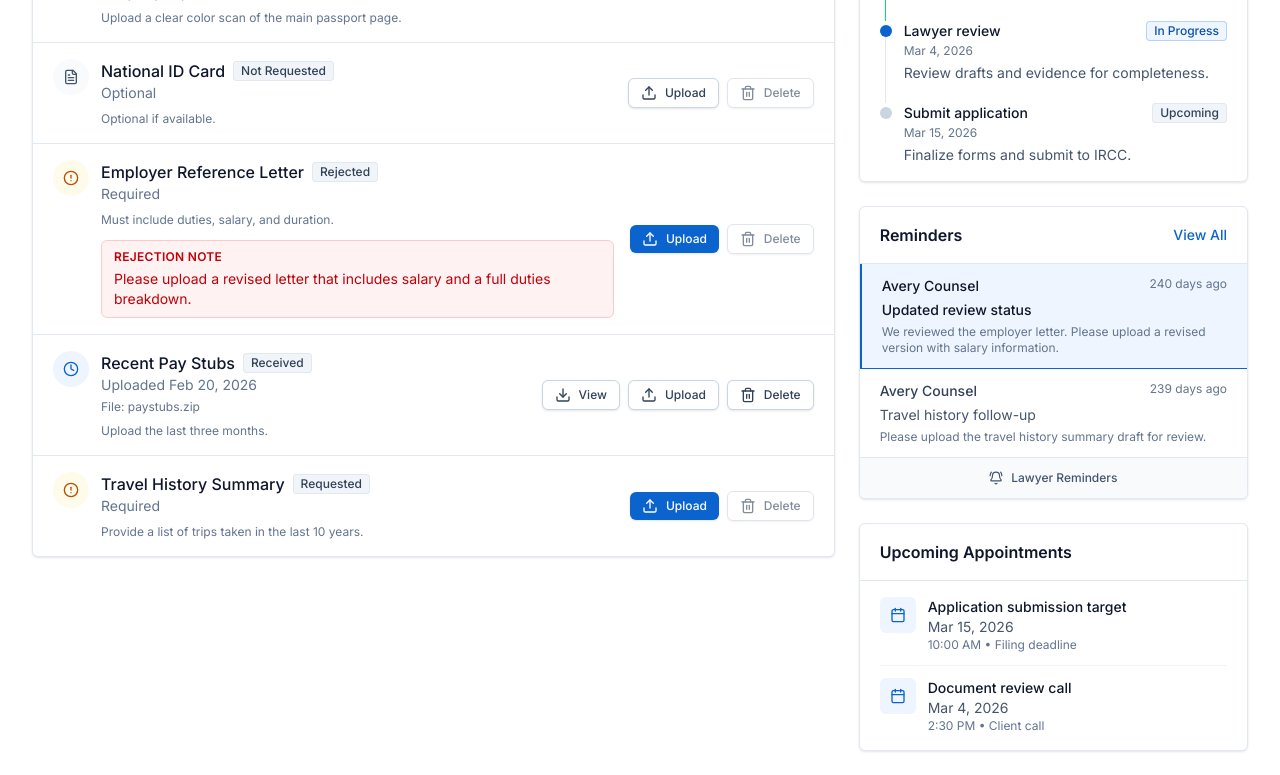
it: ClientDashboard documents › CT-CLIENT-14: requires a file before uploading
(page scrolled)
Click the 5th button "Upload": (674, 506) left=630, top=492, right=719, bottom=520
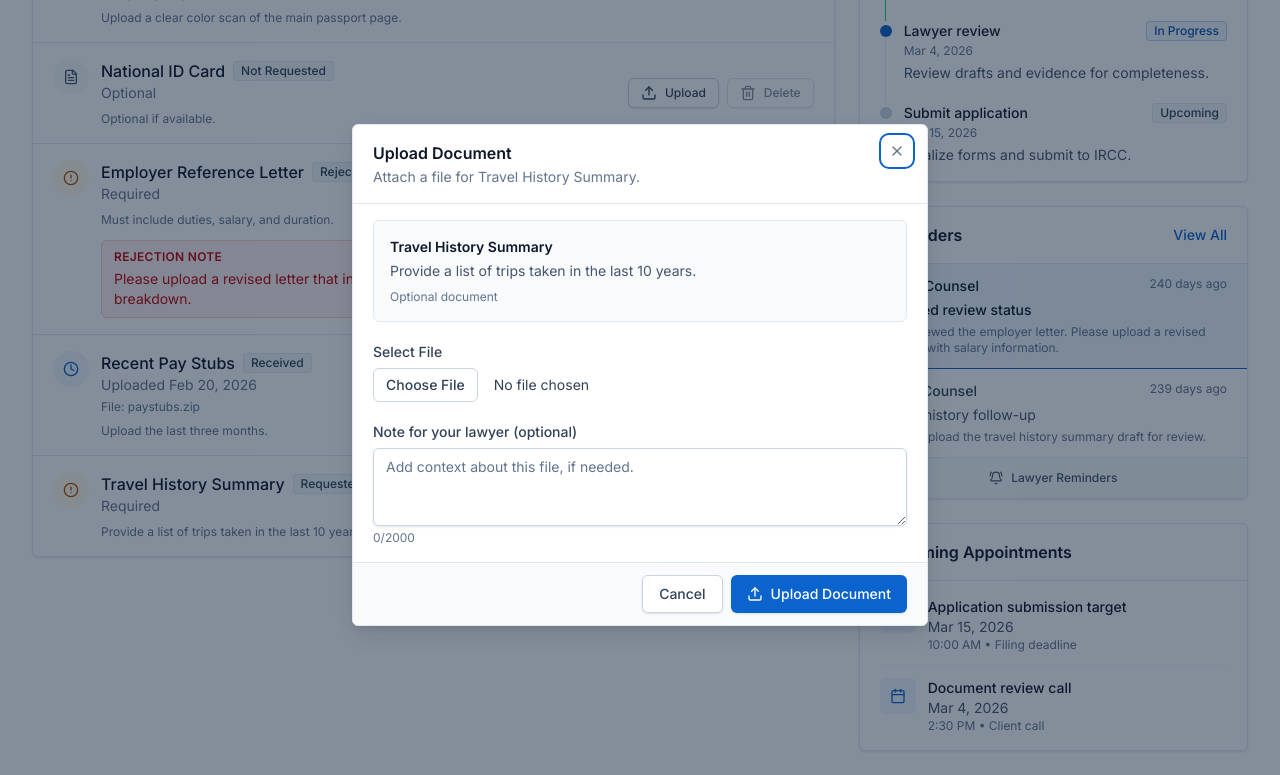
Click the button "Upload Document": (819, 594) left=731, top=575, right=907, bottom=613
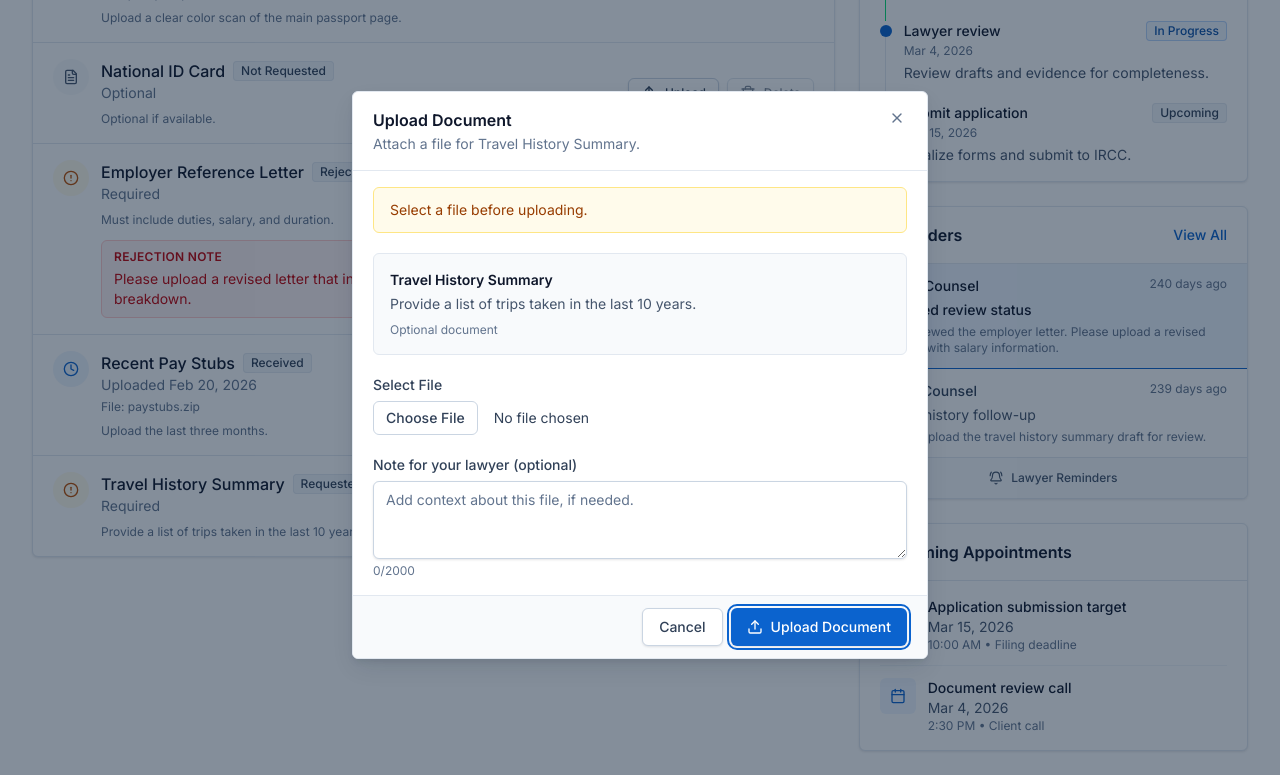
Now the message reads "Select a file before uploading.", box left=390, top=201, right=588, bottom=218
